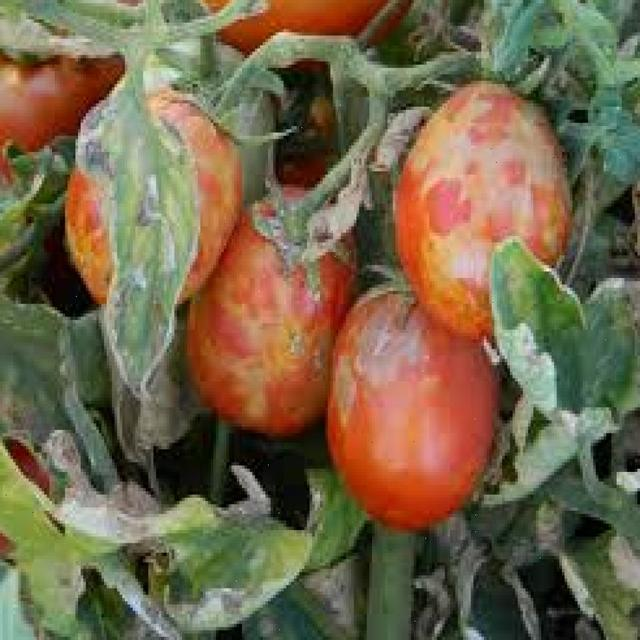Spotted wilt Virus Fruit: (103, 133, 324, 273)
